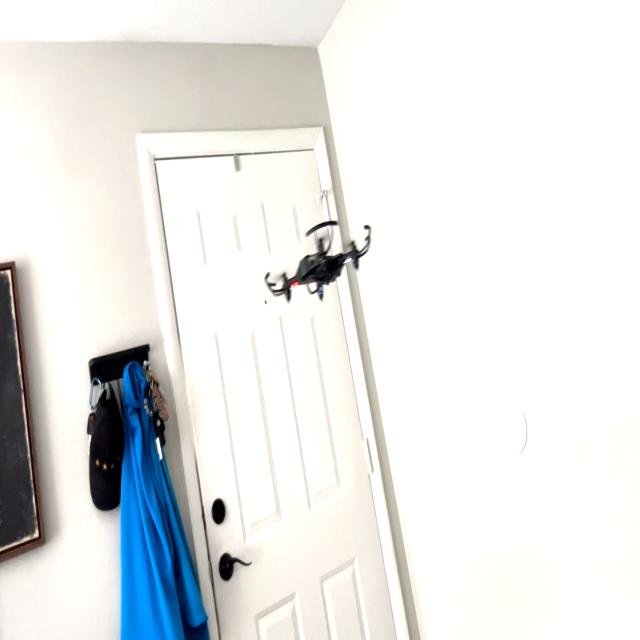drone: (258, 208, 376, 310)
